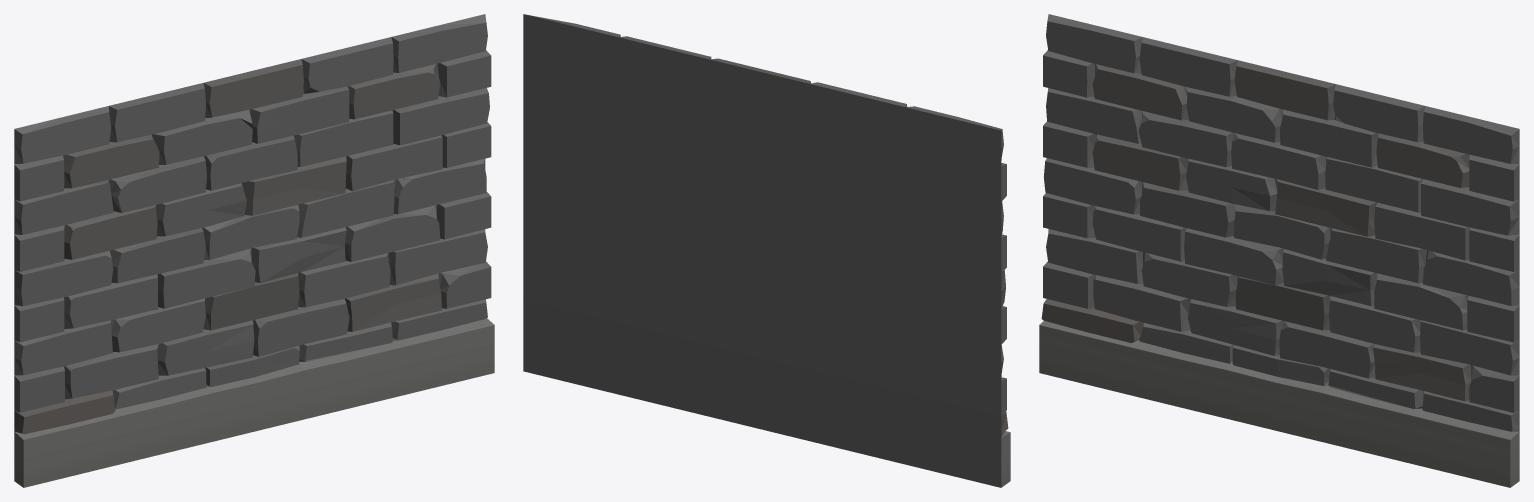
Rendered from SimulatedRealWorld.gltf.
The picture shows the model from 3 angles, left to right: view 1: azimuth 30°, elevation 25°; view 2: azimuth 150°, elevation 25°; view 3: azimuth 330°, elevation 25°; orthographic projection.
Parts seen in each view (by area): view 1: wall; view 2: wall; view 3: wall.
Part boxes in pixels (x1,y1,x2,y2): wall: (14, 14, 494, 487); wall: (523, 14, 1010, 487); wall: (1039, 14, 1519, 487).
Size of what is drawn, in the model's own units: 5.6 by 4 by 0.194.
Materials: 1 (1 with a texture image).
